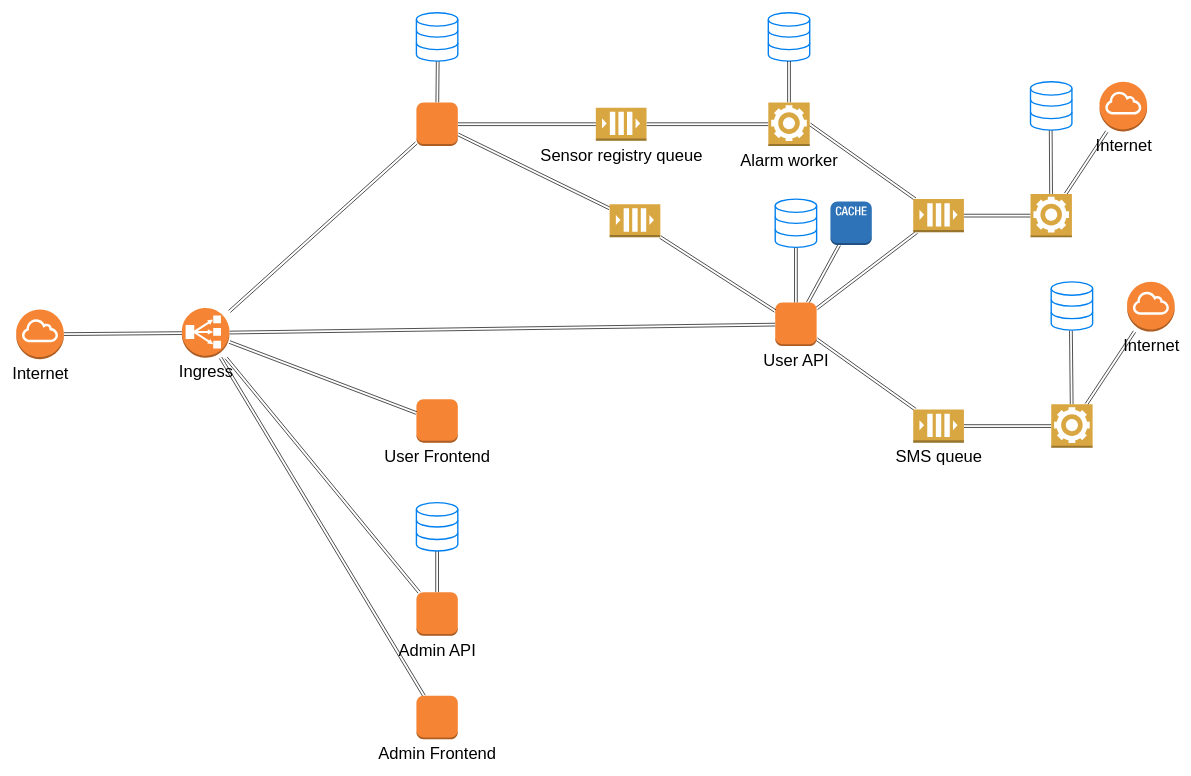
Some shapes in this 1191 by 776 pixel diagram are drawn without their labels. Each missing label, with the centre of its shape:
Mailer worker: [1051,215]
Mailing queue: [938,215]
Real time Data Queue: [634,220]
SMS worker: [1072,426]
Station API: [437,124]
